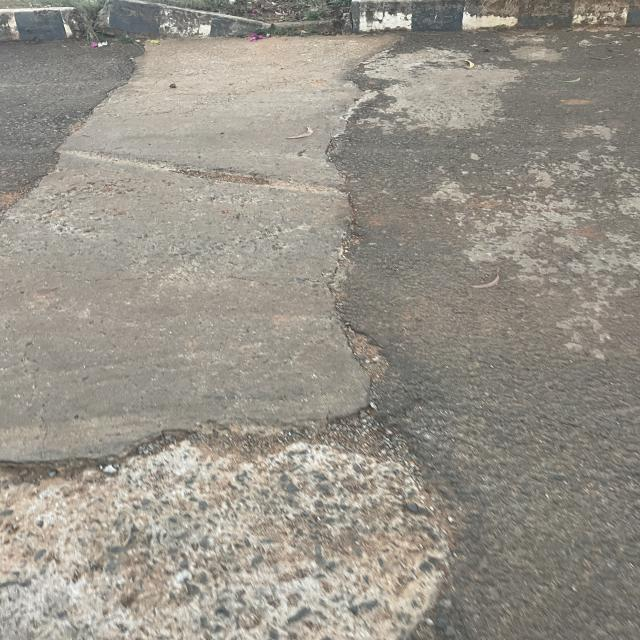D01: (310, 48, 420, 365), (0, 59, 174, 241)
D11: (53, 132, 390, 222)
D40: (21, 365, 498, 640)
